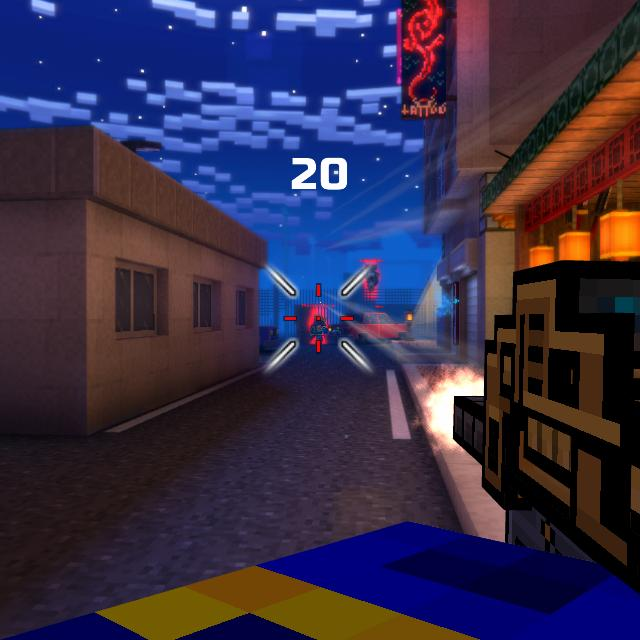Enemy: (314, 314, 332, 345), (363, 264, 380, 292)
